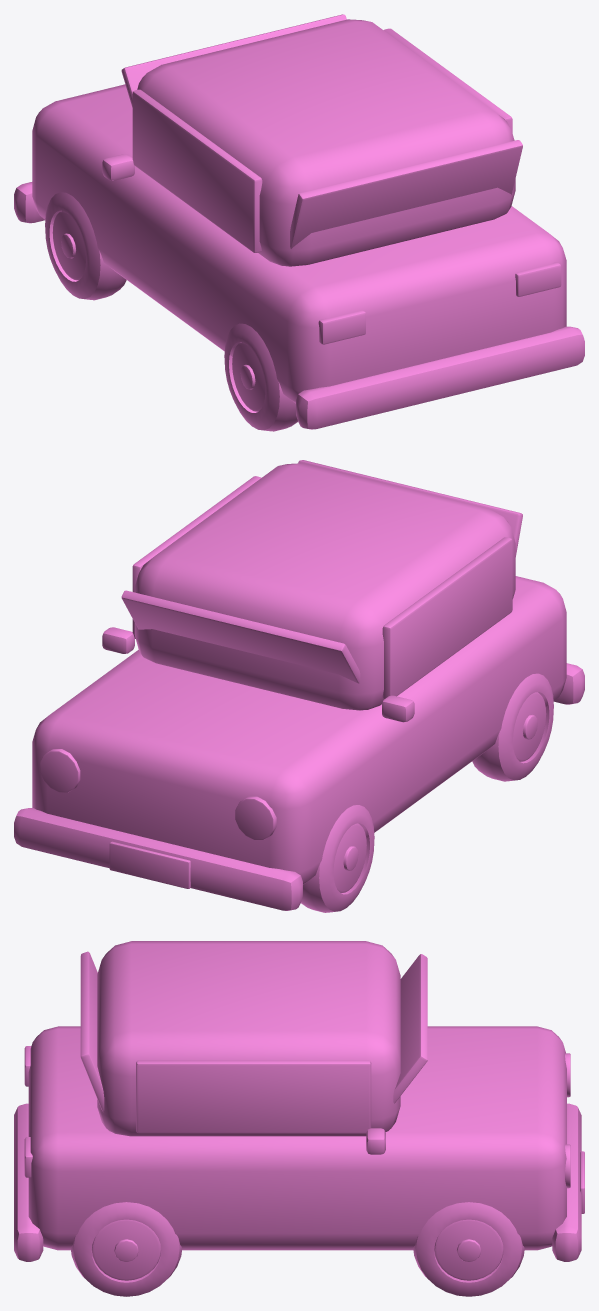
File: Traffic_Car.fbx
3 renders of one model, top to bottom at view 1: azimuth 30°, elevation 25°; view 2: azimuth 150°, elevation 25°; view 3: azimuth 270°, elevation 25°, orthographic. The views are drawn at different scales.
Parts seen in each view (by area): view 1: Paint, Body; view 2: Paint, Body; view 3: Paint, Body.
Part boxes in pixels (x1,y1,x2,y2): Paint: (32, 19, 566, 403); Body: (14, 14, 584, 431); Paint: (32, 463, 566, 884); Body: (14, 460, 584, 912); Paint: (28, 941, 566, 1250); Body: (14, 951, 584, 1296).
Bounding box in the file's own units: 6.9 × 5.6 × 11.67.
Materials: 1 (1 with a texture image).
